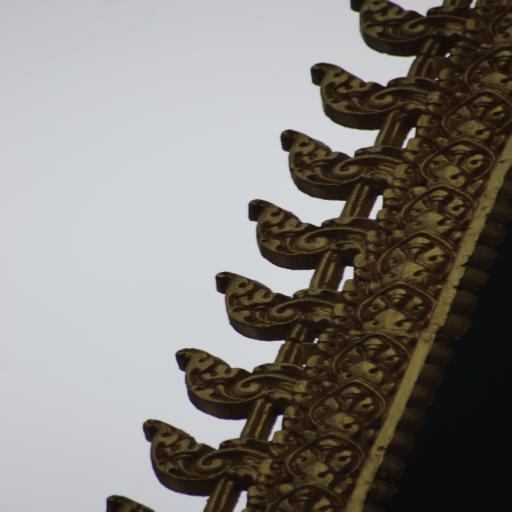la: (349, 280, 438, 336), (271, 436, 361, 488), (300, 382, 385, 434), (418, 139, 504, 189), (375, 232, 454, 280), (324, 336, 406, 381), (433, 92, 512, 138), (397, 190, 469, 234), (466, 45, 512, 94), (270, 492, 348, 512)
lua: (243, 196, 388, 272), (136, 414, 259, 494), (164, 345, 306, 412), (213, 264, 339, 335), (282, 124, 380, 196), (310, 59, 412, 122), (345, 0, 439, 54)
